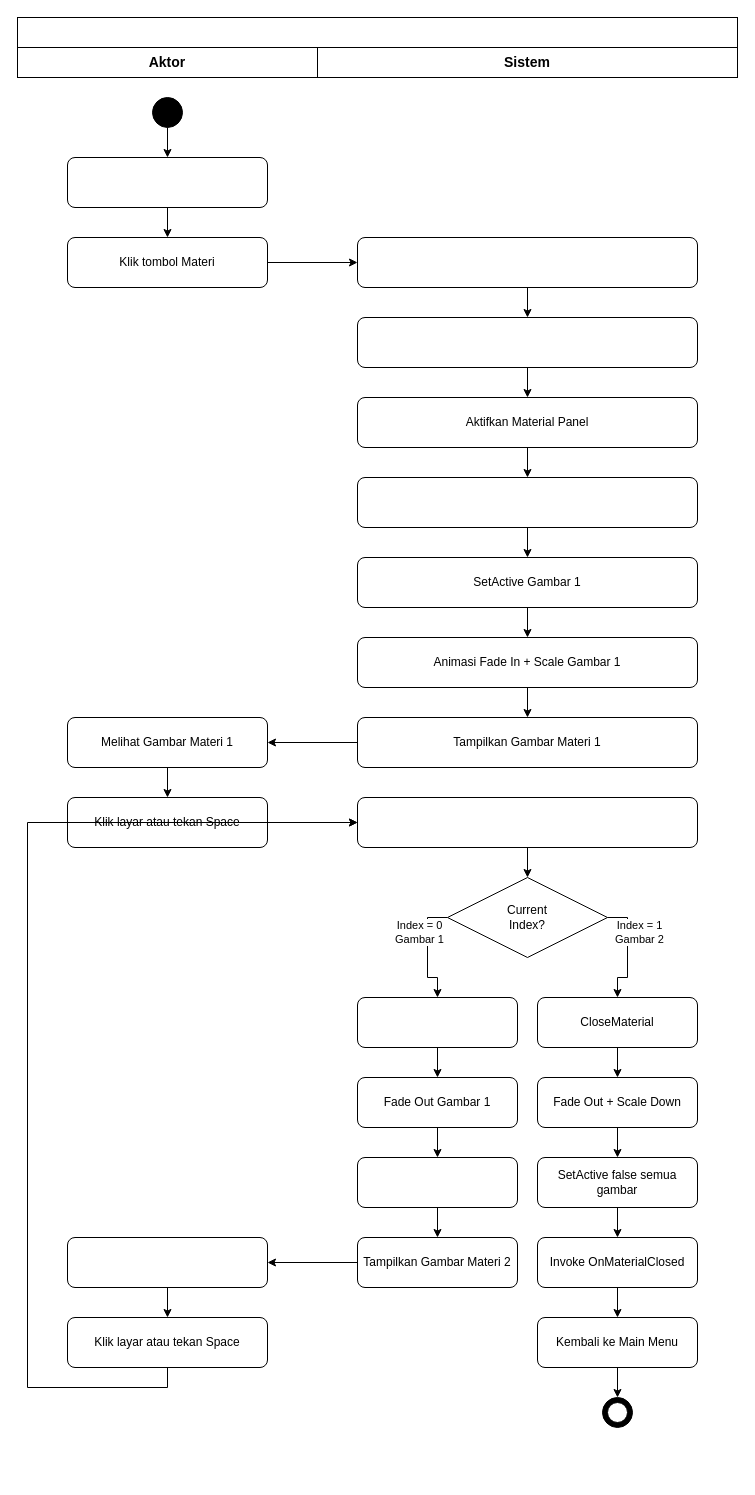
This 755x1495 diagram has some shape labels left out. The shapes that lost their labels are listed below. From the top down, each one's box as (x1, y1, x2, y2) in pixels, then its label:
(16, 16, 738, 48): Gameplay
(66, 156, 268, 208): Berada di Main Menu
(356, 236, 698, 288): OnMateriClicked
(356, 316, 698, 368): Animasi Sink Out Main Menu
(356, 476, 698, 528): MaterialDisplayController.ShowMaterial
(356, 796, 698, 848): OnNextClicked
(356, 996, 518, 1048): TransitionToImage2
(356, 1156, 518, 1208): Fade In + Scale Gambar 2
(66, 1236, 268, 1288): Melihat Gambar Materi 2
